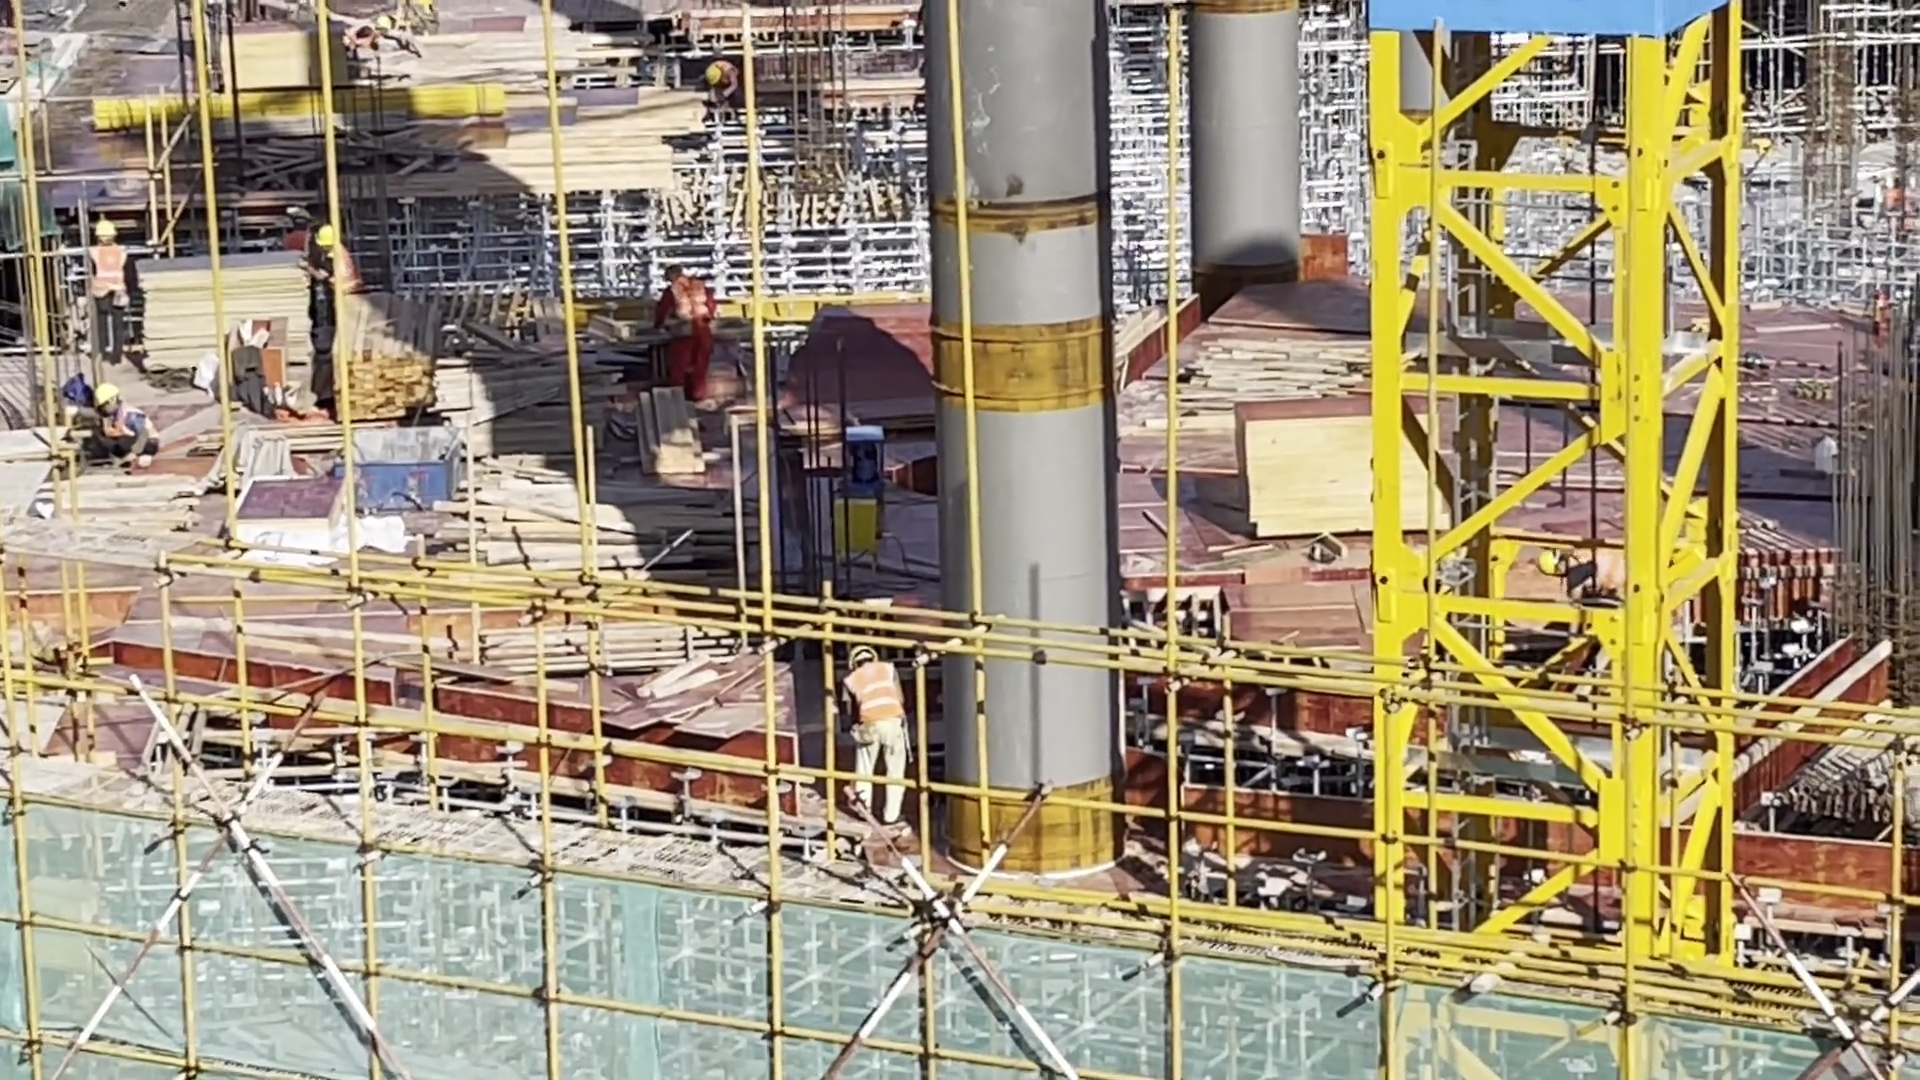board: (1218, 391, 1433, 534), (138, 256, 308, 377), (201, 24, 348, 96)
cutter: (758, 403, 877, 518)
ebox: (818, 491, 866, 572)
helmet: (1546, 552, 1576, 587), (89, 382, 124, 412), (846, 642, 883, 664), (314, 229, 348, 246), (98, 219, 123, 239), (288, 206, 310, 227), (709, 67, 729, 91), (649, 261, 678, 276)
hopper: (331, 421, 466, 516)
person: (1538, 526, 1649, 641), (844, 650, 909, 811), (653, 258, 721, 403), (78, 215, 144, 358), (94, 383, 186, 476), (696, 50, 759, 145), (318, 220, 384, 310), (1873, 276, 1909, 370), (1888, 163, 1920, 220), (281, 215, 321, 256)
vest: (1586, 546, 1639, 622), (843, 661, 893, 727), (669, 279, 716, 341), (93, 399, 153, 442), (89, 239, 133, 291), (1871, 297, 1903, 348), (329, 252, 360, 293), (716, 55, 746, 89), (281, 224, 310, 250), (1893, 188, 1913, 213)
wood: (449, 349, 608, 456), (504, 592, 774, 632), (334, 311, 429, 396)
